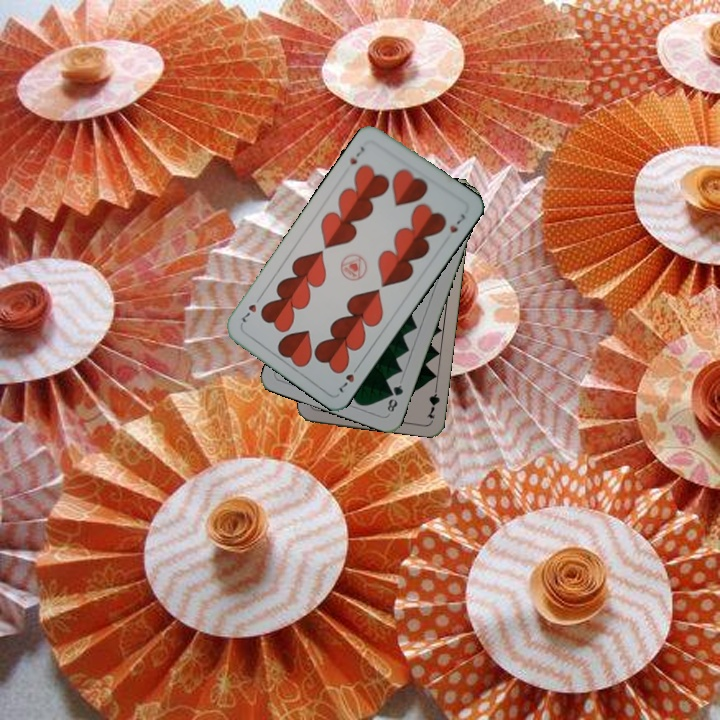G7: (423, 381, 442, 421)
G8: (383, 381, 406, 415)
H7: (335, 360, 363, 395), (346, 142, 367, 167)
